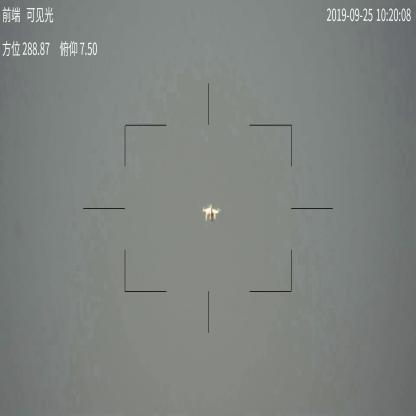uav: (202, 202, 221, 224)
